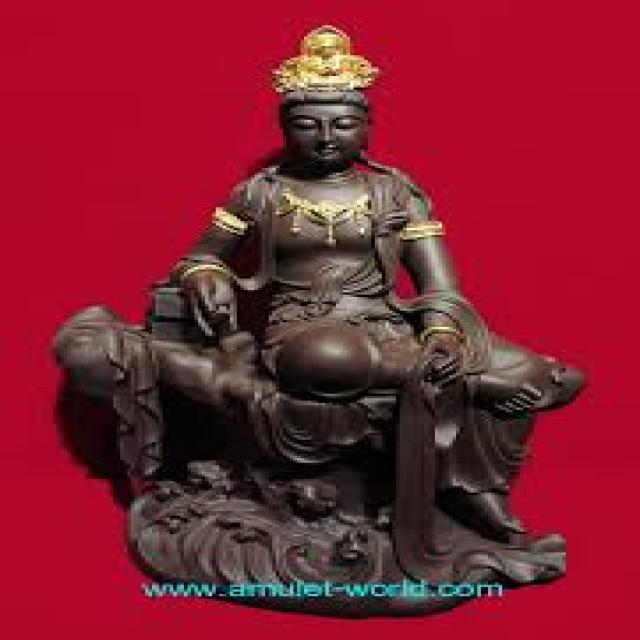Guan Yin: (255, 24, 391, 162)
